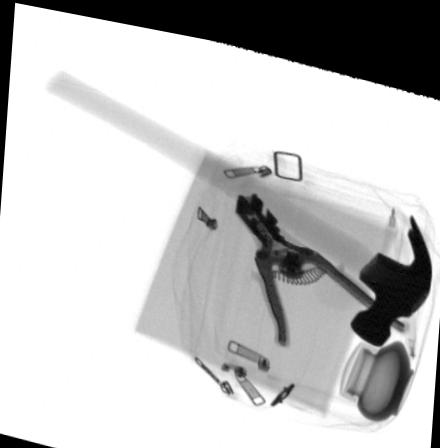Hammer: (41, 67, 432, 332)
Pliers: (233, 182, 412, 337)
